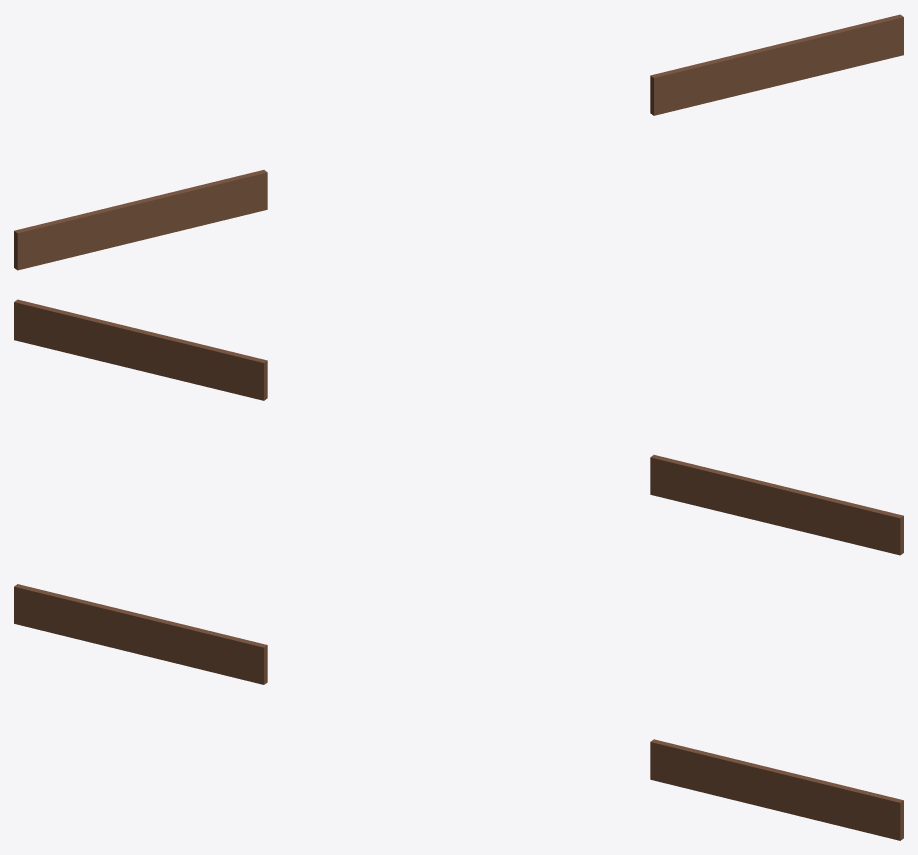
The model's file is Plinth2_C5.fbx.
The picture shows the model from 3 angles, top to bottom: view 1: azimuth 30°, elevation 25°; view 2: azimuth 150°, elevation 25°; view 3: azimuth 330°, elevation 25°; orthographic projection.
Parts seen in each view (by area): view 1: Plinth2_C5; view 2: Plinth2_C5; view 3: Plinth2_C5.
Boxes of the visible parts, bbox=[...] form: Plinth2_C5: bbox=[14, 14, 903, 270]; Plinth2_C5: bbox=[14, 299, 903, 555]; Plinth2_C5: bbox=[14, 584, 903, 840].
Bounding box in the file's own units: 250 × 10.25 × 1.77.
